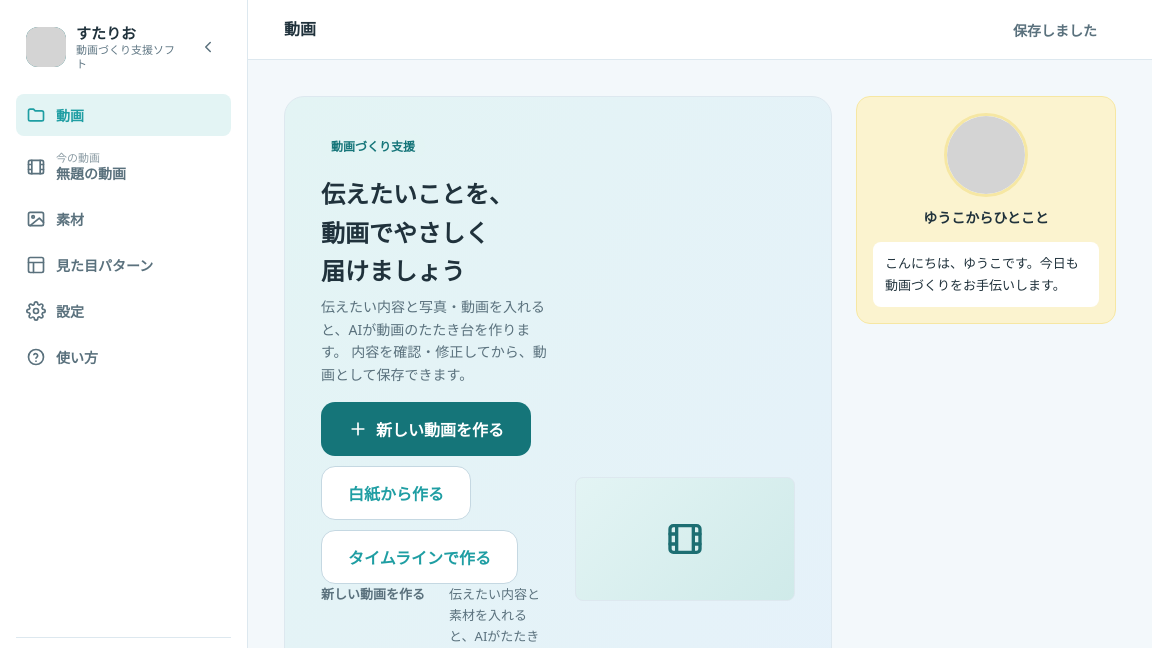
Test case: App「今の動画」の戻り先の配線（#547 P3-7 統合） › まだ工程画面に入っていなければ、「今の動画」は入口＝たたき台へ（既定の戻り先）
Click the button "今の動画 無題の動画".
click(124, 167)  # box [16,140,231,194]
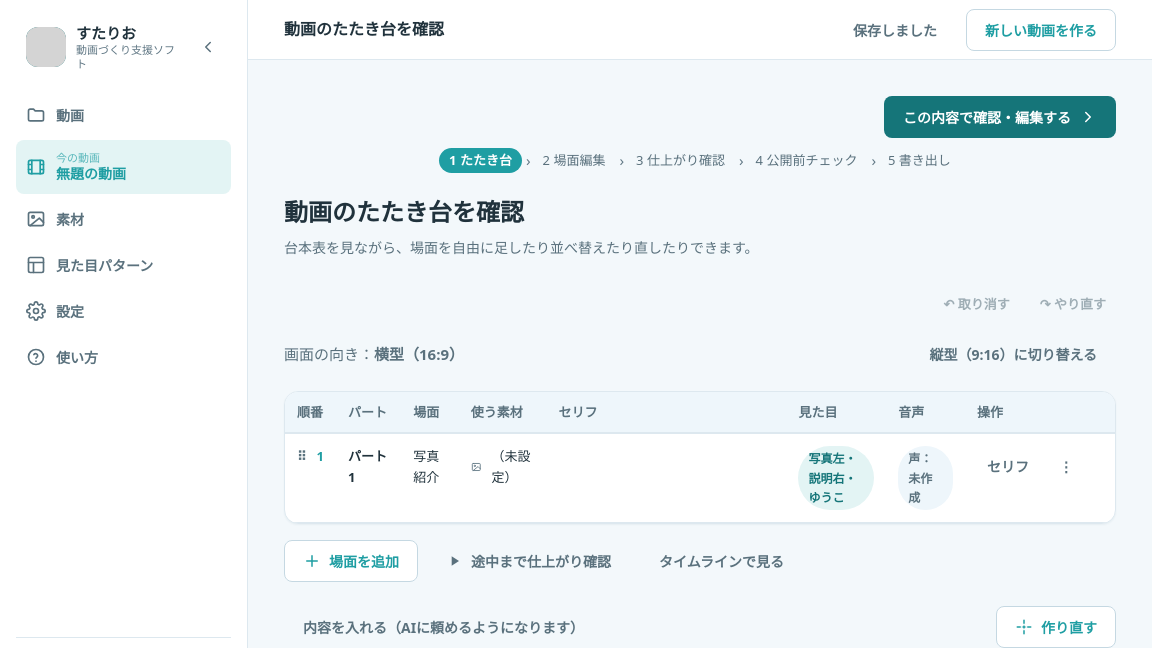
Now the button "この内容で確認・編集する" is shown, box [884,96,1116,138]
